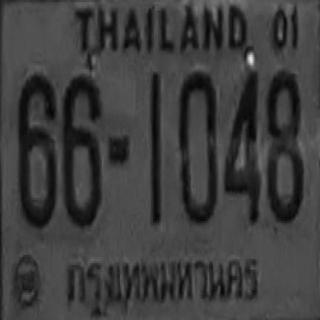N00: (178, 70, 216, 224)
N01: (149, 73, 161, 224)
N04: (223, 68, 259, 222)
N06: (16, 73, 56, 226), (62, 74, 101, 225)
N08: (265, 70, 302, 221)
P04: (59, 245, 264, 316)
